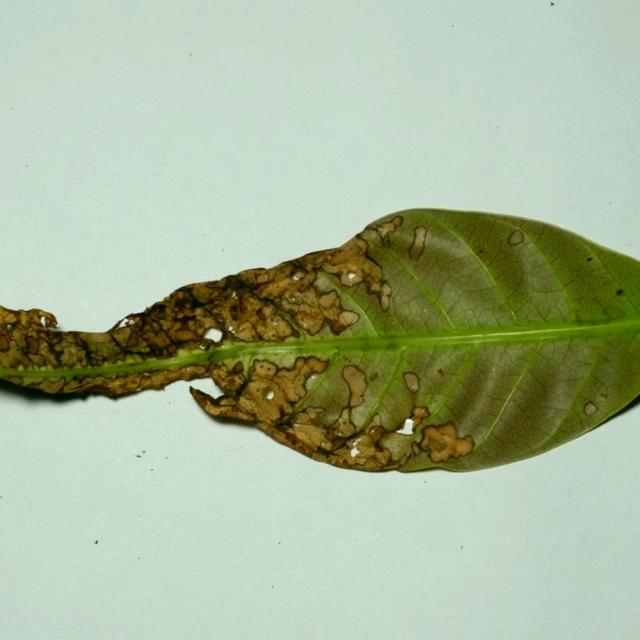Anthracnose: (191, 355, 338, 458), (336, 398, 456, 468), (257, 267, 359, 335), (112, 293, 221, 356), (215, 284, 305, 343), (319, 362, 377, 445), (5, 321, 93, 375), (202, 296, 291, 344), (255, 357, 326, 414), (319, 244, 383, 293), (242, 261, 318, 301), (417, 421, 476, 464), (314, 288, 359, 332), (341, 428, 393, 465), (0, 303, 59, 334), (203, 360, 245, 396), (360, 214, 403, 247), (340, 363, 369, 409), (162, 313, 203, 344), (289, 421, 330, 451), (85, 333, 126, 362), (290, 303, 326, 335), (185, 280, 229, 305), (235, 390, 269, 420), (329, 406, 359, 439), (141, 324, 175, 351), (2, 339, 29, 371), (228, 317, 260, 343), (33, 336, 60, 364), (58, 343, 85, 367), (109, 325, 137, 348), (339, 268, 363, 288), (195, 315, 221, 333), (317, 290, 340, 310), (337, 310, 361, 329), (124, 331, 144, 349), (25, 335, 42, 356)
Mango: (0, 209, 639, 476)
